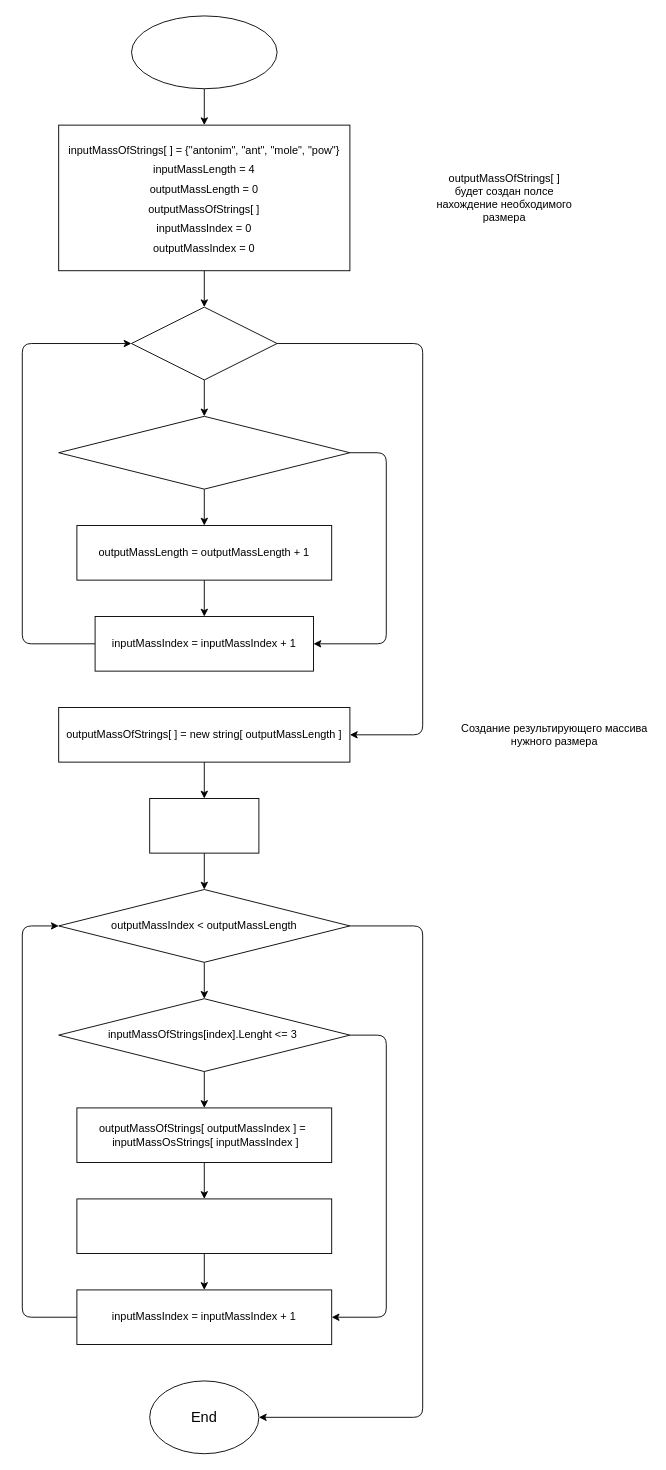
Image size: 666x1470. Some labels were removed from this diagram. The box of each missing label's shape, as (x1, y1, x2, y2) in pixels:
inputMassIndex < 4: (131, 306, 277, 380)
inputMassIndex = 0: (149, 798, 259, 853)
inputMassOfStrings[inputMassIndex].Length <= 3: (58, 415, 350, 489)
outputMassIndex = outputMassIndex + 1: (76, 1198, 332, 1254)
Start: (131, 15, 277, 89)
